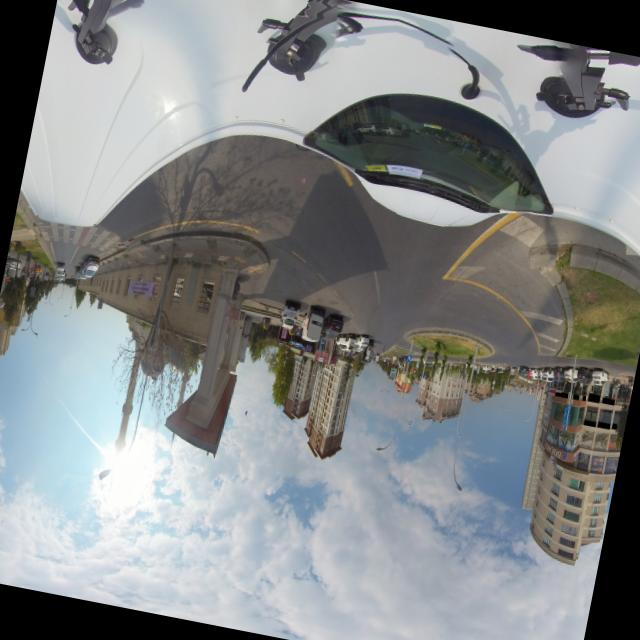SignStore: (587, 393, 600, 402), (596, 421, 610, 428), (601, 397, 614, 404), (583, 419, 595, 426), (560, 391, 568, 397), (572, 393, 579, 399), (611, 422, 616, 428), (554, 391, 560, 396), (581, 394, 585, 399)
